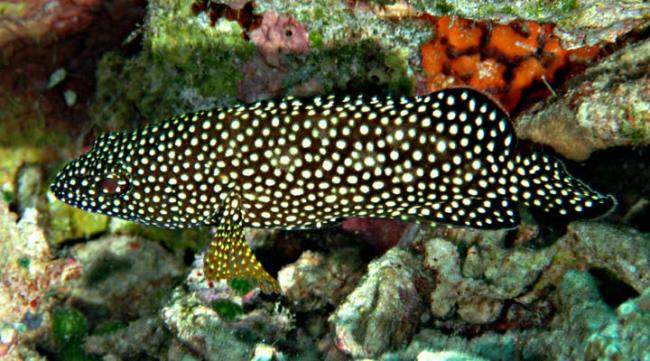fish: (50, 85, 618, 293)
